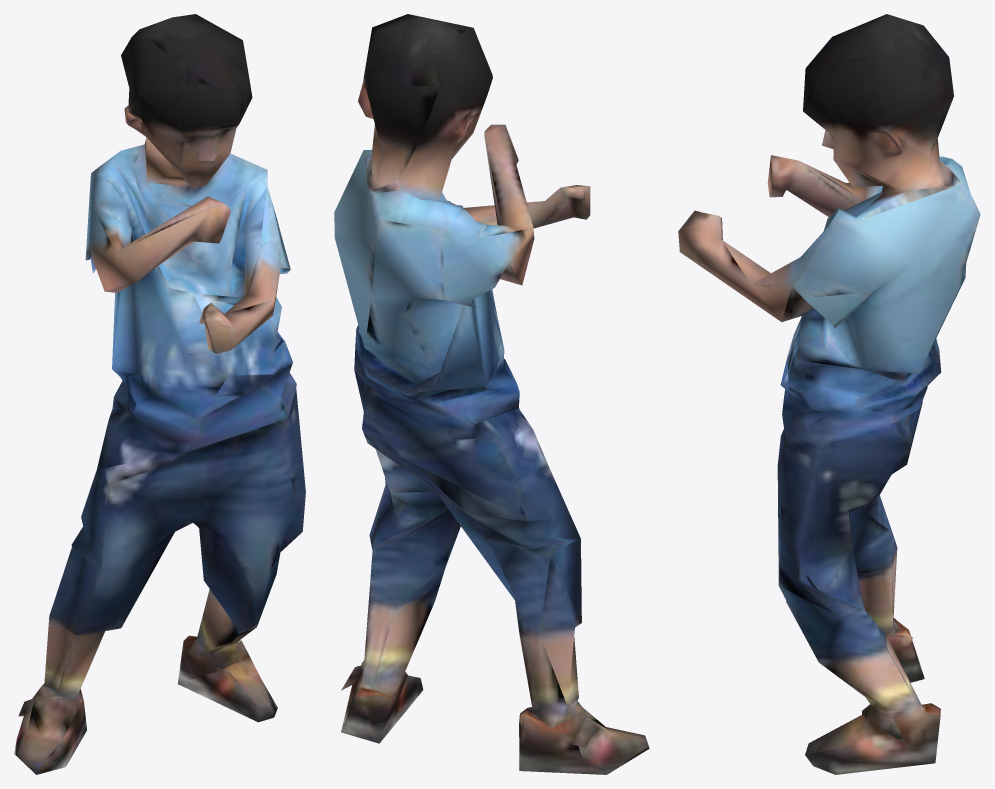
File: Boy5.glb
3 renders of one model, left to right at view 1: azimuth 30°, elevation 25°; view 2: azimuth 150°, elevation 25°; view 3: azimuth 270°, elevation 25°, orthographic. The views are drawn at different scales.
Visible parts, largest first — view 1: Boy5; view 2: Boy5; view 3: Boy5.
Part boxes in pixels (<box>): Boy5: <box>14,14,305,774</box>; Boy5: <box>334,14,649,774</box>; Boy5: <box>678,14,980,774</box>.
Size of the model in its own units: 0.00833 by 0.0198 by 0.00751.
Materials: 1 (1 with a texture image).
